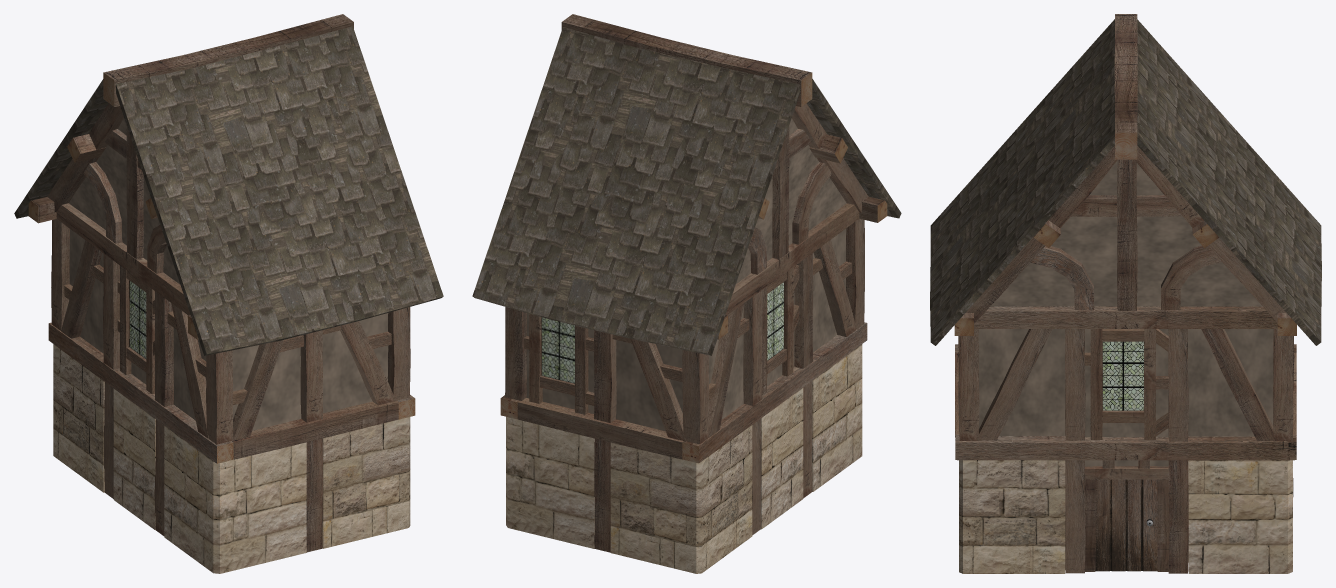
File: House1.fbx
3 renders of one model, left to right at view 1: azimuth 30°, elevation 25°; view 2: azimuth 150°, elevation 25°; view 3: azimuth 270°, elevation 25°, orthographic.
Parts seen in each view (by area): view 1: house_3x2x1; view 2: house_3x2x1; view 3: house_3x2x1.
Part boxes in pixels (left/top/right/bottom): house_3x2x1: left=14, top=14, right=443, bottom=573; house_3x2x1: left=472, top=14, right=901, bottom=573; house_3x2x1: left=930, top=14, right=1321, bottom=573.
Bounding box in the file's own units: 668 × 1183 × 933.
Materials: 12 (10 with a texture image).
